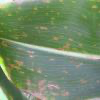Corn Gray leaf spot: (0, 0, 37, 37)
